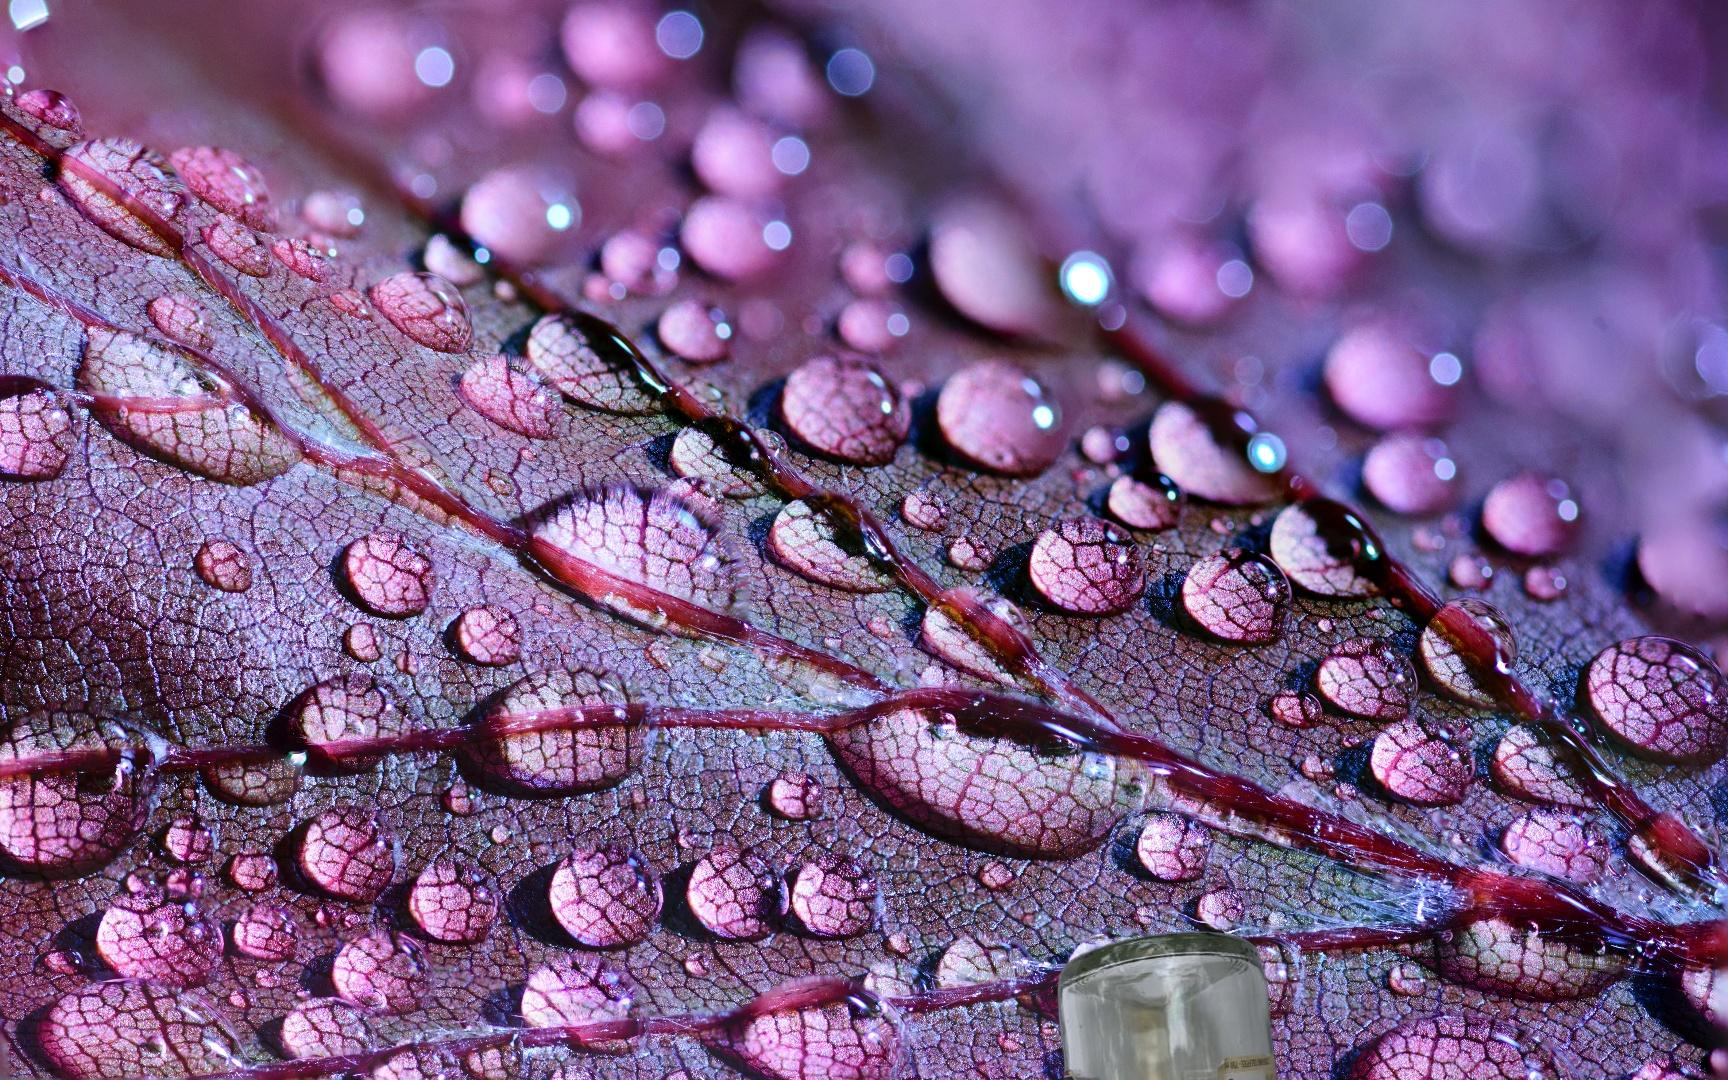glass: (376, 673, 888, 1080), (1052, 928, 1301, 1080)
